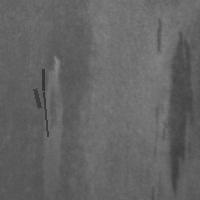inclusion: (163, 29, 197, 197), (150, 16, 166, 59), (41, 90, 49, 138), (32, 86, 41, 109), (41, 67, 45, 92)
